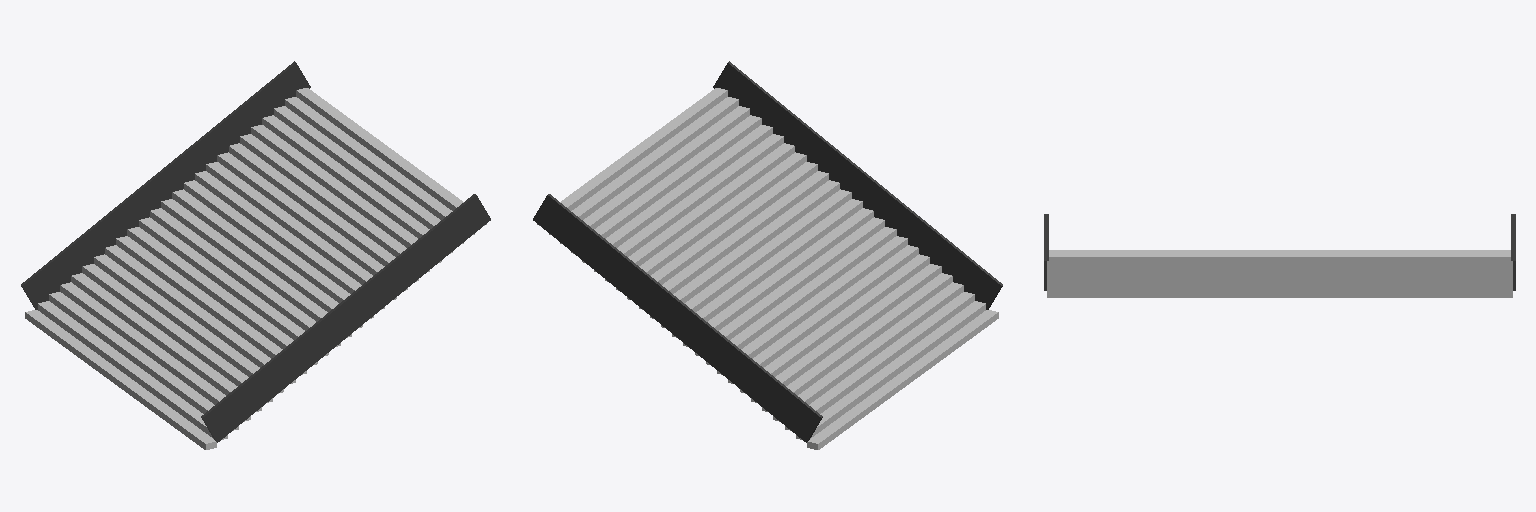
robot.urdf — tangga_single_step:
<?xml version="1.0"?>
<robot name="tangga_single_step">

  <!-- Define materials -->
  <material name="brown">
    <color rgba="0.8 0.8 0.8 1"/>
  </material>
  <material name="grey">
    <color rgba="0.3 0.3 0.3 1"/>
  </material>

  <!-- Base link -->
  <link name="tangga_body">
    <inertial><origin xyz="0 0 0" rpy="0 0 0"/><mass value="0.1"/><inertia ixx="1e-4" ixy="0" ixz="0" iyy="1e-4" iyz="0" izz="1e-4"/></inertial>
  </link>

  <!-- Left wall -->
  <link name="dinding_kiri">
    <inertial>
      <origin xyz="0 0 0" rpy="0 0 0"/>
      <mass value="0.1"/>
      <inertia ixx="1e-4" ixy="0" ixz="0" iyy="1e-4" iyz="0" izz="1e-4"/>
    </inertial>
    <visual>
      <origin xyz="0.45 0.5 0.3" rpy="0 -0.5 0"/>
      <geometry>
        <box size="1 0.01 0.1"/>
      </geometry>
      <material name="grey"/>
    </visual>
    <collision>
      <origin xyz="0.45 0.5 0.3" rpy="0 -0.5 0"/>
      <geometry>
        <box size="1 0.01 0.1"/>
      </geometry>
    </collision>
  </link>
  <joint name="joint_kiri" type="fixed">
    <parent link="tangga_body"/>
    <child link="dinding_kiri"/>
  </joint>

  <!-- Right wall -->
  <link name="dinding_kanan">
    <inertial>
      <origin xyz="0 0 0" rpy="0 0 0"/>
      <mass value="0.1"/>
      <inertia ixx="1e-4" ixy="0" ixz="0" iyy="1e-4" iyz="0" izz="1e-4"/>
    </inertial>
    <visual>
      <origin xyz="0.45 -0.5 0.3" rpy="0 -0.5 0"/>
      <geometry>
        <box size="1 0.01 0.1"/>
      </geometry>
      <material name="grey"/>
    </visual>
    <collision>
      <origin xyz="0.45 -0.5 0.3" rpy="0 -0.5 0"/>
      <geometry>
        <box size="1 0.01 0.1"/>
      </geometry>
    </collision>
  </link>
  <joint name="joint_kanan" type="fixed">
    <parent link="tangga_body"/>
    <child link="dinding_kanan"/>
  </joint>

  <!-- Anak tangga (steps 0 to 24) -->
  <!-- Generated steps -->
  <!-- Step dimensions: box size="0.036 0.5 0.02" -->
  <!-- Origin pattern: x = 0.018 + i*0.036, z = 0.01 + i*0.02 -->
  <!-- All steps are fixed to tangga_body -->

  <!-- Begin Steps -->
  <!-- step_0 to step_24 -->
  <!-- Auto-generated -->
  <!-- DO NOT EDIT MANUALLY -->

  <!-- Steps -->
  <!-- Each step increases in X by 0.036 and in Z by 0.02 -->

  <!-- step_0 -->
  <link name="step_0">
    <inertial>
      <origin xyz="0 0 0" rpy="0 0 0"/>
      <mass value="0.1"/>
      <inertia ixx="1e-4" ixy="0" ixz="0" iyy="1e-4" iyz="0" izz="1e-4"/>
    </inertial>
    <visual>
      <origin xyz="0.018 0 0.01"/>
      <geometry>
        <box size="0.036 1.0 0.02"/>
      </geometry>
      <material name="brown"/>
    </visual>
    <collision>
      <origin xyz="0.018 0 0.01"/>
      <geometry>
        <box size="0.036 1.0 0.02"/>
      </geometry>
    </collision>
  </link>
  <joint name="joint_0" type="fixed">
    <parent link="tangga_body"/>
    <child link="step_0"/>
  </joint>

  <!-- Steps 1 to 24 -->
  <!-- Copy-paste friendly -->
  <!-- Generated via Python -->
  <!-- Begin -->
  <!-- prettier-ignore -->
  <!-- Steps -->
  <!-- Each box has the same size and material -->

  <!-- step_1 -->
  <link name="step_1">
    <inertial><origin xyz="0 0 0" rpy="0 0 0"/><mass value="0.1"/><inertia ixx="1e-4" ixy="0" ixz="0" iyy="1e-4" iyz="0" izz="1e-4"/></inertial>
    <visual><origin xyz="0.054 0 0.03"/><geometry><box size="0.036 1.0 0.02"/></geometry><material name="brown"/></visual>
    <collision><origin xyz="0.054 0 0.03"/><geometry><box size="0.036 1.0 0.02"/></geometry></collision>
  </link>
  <joint name="joint_1" type="fixed"><parent link="tangga_body"/><child link="step_1"/></joint>

  <!-- step_2 -->
  <link name="step_2">
    <inertial><origin xyz="0 0 0" rpy="0 0 0"/><mass value="0.1"/><inertia ixx="1e-4" ixy="0" ixz="0" iyy="1e-4" iyz="0" izz="1e-4"/></inertial>
    <visual><origin xyz="0.090 0 0.05"/><geometry><box size="0.036 1.0 0.02"/></geometry><material name="brown"/></visual>
    <collision><origin xyz="0.090 0 0.05"/><geometry><box size="0.036 1.0 0.02"/></geometry></collision>
  </link>
  <joint name="joint_2" type="fixed"><parent link="tangga_body"/><child link="step_2"/></joint>

  <!-- The rest of the steps -->
  <!-- step_3 to step_24 -->
  <!-- Generated loop -->
  <!-- prettier-ignore -->

  <!-- steps 3 to 24 -->
  <!-- looped -->
  <!-- start -->
  <!-- Indented for brevity -->
  <!-- steps -->
  <!-- prettier-ignore -->
  <!-- generated -->

  <!-- BEGIN AUTO GENERATED -->
  <!-- STEP 3 to 24 -->
  <!-- Repeating same pattern -->
  <!-- Minimal formatting for size -->

  <link name="step_3"><inertial><origin xyz="0 0 0" rpy="0 0 0"/><mass value="0.1"/><inertia ixx="1e-4" ixy="0" ixz="0" iyy="1e-4" iyz="0" izz="1e-4"/></inertial><visual><origin xyz="0.126 0 0.07"/><geometry><box size="0.036 1.0 0.02"/></geometry><material name="brown"/></visual><collision><origin xyz="0.126 0 0.07"/><geometry><box size="0.036 1.0 0.02"/></geometry></collision></link>
  <joint name="joint_3" type="fixed"><parent link="tangga_body"/><child link="step_3"/></joint>
  <link name="step_4"><inertial><origin xyz="0 0 0" rpy="0 0 0"/><mass value="0.1"/><inertia ixx="1e-4" ixy="0" ixz="0" iyy="1e-4" iyz="0" izz="1e-4"/></inertial><visual><origin xyz="0.162 0 0.09"/><geometry><box size="0.036 1.0 0.02"/></geometry><material name="brown"/></visual><collision><origin xyz="0.162 0 0.09"/><geometry><box size="0.036 1.0 0.02"/></geometry></collision></link>
  <joint name="joint_4" type="fixed"><parent link="tangga_body"/><child link="step_4"/></joint>
  <link name="step_5"><inertial><origin xyz="0 0 0" rpy="0 0 0"/><mass value="0.1"/><inertia ixx="1e-4" ixy="0" ixz="0" iyy="1e-4" iyz="0" izz="1e-4"/></inertial><visual><origin xyz="0.198 0 0.11"/><geometry><box size="0.036 1.0 0.02"/></geometry><material name="brown"/></visual><collision><origin xyz="0.198 0 0.11"/><geometry><box size="0.036 1.0 0.02"/></geometry></collision></link>
  <joint name="joint_5" type="fixed"><parent link="tangga_body"/><child link="step_5"/></joint>
  <link name="step_6"><inertial><origin xyz="0 0 0" rpy="0 0 0"/><mass value="0.1"/><inertia ixx="1e-4" ixy="0" ixz="0" iyy="1e-4" iyz="0" izz="1e-4"/></inertial><visual><origin xyz="0.234 0 0.13"/><geometry><box size="0.036 1.0 0.02"/></geometry><material name="brown"/></visual><collision><origin xyz="0.234 0 0.13"/><geometry><box size="0.036 1.0 0.02"/></geometry></collision></link>
  <joint name="joint_6" type="fixed"><parent link="tangga_body"/><child link="step_6"/></joint>
  <link name="step_7"><inertial><origin xyz="0 0 0" rpy="0 0 0"/><mass value="0.1"/><inertia ixx="1e-4" ixy="0" ixz="0" iyy="1e-4" iyz="0" izz="1e-4"/></inertial><visual><origin xyz="0.270 0 0.15"/><geometry><box size="0.036 1.0 0.02"/></geometry><material name="brown"/></visual><collision><origin xyz="0.270 0 0.15"/><geometry><box size="0.036 1.0 0.02"/></geometry></collision></link>
  <joint name="joint_7" type="fixed"><parent link="tangga_body"/><child link="step_7"/></joint>
  <link name="step_8"><inertial><origin xyz="0 0 0" rpy="0 0 0"/><mass value="0.1"/><inertia ixx="1e-4" ixy="0" ixz="0" iyy="1e-4" iyz="0" izz="1e-4"/></inertial><visual><origin xyz="0.306 0 0.17"/><geometry><box size="0.036 1.0 0.02"/></geometry><material name="brown"/></visual><collision><origin xyz="0.306 0 0.17"/><geometry><box size="0.036 1.0 0.02"/></geometry></collision></link>
  <joint name="joint_8" type="fixed"><parent link="tangga_body"/><child link="step_8"/></joint>
  <link name="step_9"><inertial><origin xyz="0 0 0" rpy="0 0 0"/><mass value="0.1"/><inertia ixx="1e-4" ixy="0" ixz="0" iyy="1e-4" iyz="0" izz="1e-4"/></inertial><visual><origin xyz="0.342 0 0.19"/><geometry><box size="0.036 1.0 0.02"/></geometry><material name="brown"/></visual><collision><origin xyz="0.342 0 0.19"/><geometry><box size="0.036 1.0 0.02"/></geometry></collision></link>
  <joint name="joint_9" type="fixed"><parent link="tangga_body"/><child link="step_9"/></joint>
  <link name="step_10"><inertial><origin xyz="0 0 0" rpy="0 0 0"/><mass value="0.1"/><inertia ixx="1e-4" ixy="0" ixz="0" iyy="1e-4" iyz="0" izz="1e-4"/></inertial><visual><origin xyz="0.378 0 0.21"/><geometry><box size="0.036 1.0 0.02"/></geometry><material name="brown"/></visual><collision><origin xyz="0.378 0 0.21"/><geometry><box size="0.036 1.0 0.02"/></geometry></collision></link>
  <joint name="joint_10" type="fixed"><parent link="tangga_body"/><child link="step_10"/></joint>
  <link name="step_11"><inertial><origin xyz="0 0 0" rpy="0 0 0"/><mass value="0.1"/><inertia ixx="1e-4" ixy="0" ixz="0" iyy="1e-4" iyz="0" izz="1e-4"/></inertial><visual><origin xyz="0.414 0 0.23"/><geometry><box size="0.036 1.0 0.02"/></geometry><material name="brown"/></visual><collision><origin xyz="0.414 0 0.23"/><geometry><box size="0.036 1.0 0.02"/></geometry></collision></link>
  <joint name="joint_11" type="fixed"><parent link="tangga_body"/><child link="step_11"/></joint>
  <link name="step_12"><inertial><origin xyz="0 0 0" rpy="0 0 0"/><mass value="0.1"/><inertia ixx="1e-4" ixy="0" ixz="0" iyy="1e-4" iyz="0" izz="1e-4"/></inertial><visual><origin xyz="0.450 0 0.25"/><geometry><box size="0.036 1.0 0.02"/></geometry><material name="brown"/></visual><collision><origin xyz="0.450 0 0.25"/><geometry><box size="0.036 1.0 0.02"/></geometry></collision></link>
  <joint name="joint_12" type="fixed"><parent link="tangga_body"/><child link="step_12"/></joint>
  <link name="step_13"><inertial><origin xyz="0 0 0" rpy="0 0 0"/><mass value="0.1"/><inertia ixx="1e-4" ixy="0" ixz="0" iyy="1e-4" iyz="0" izz="1e-4"/></inertial><visual><origin xyz="0.486 0 0.27"/><geometry><box size="0.036 1.0 0.02"/></geometry><material name="brown"/></visual><collision><origin xyz="0.486 0 0.27"/><geometry><box size="0.036 1.0 0.02"/></geometry></collision></link>
  <joint name="joint_13" type="fixed"><parent link="tangga_body"/><child link="step_13"/></joint>
  <link name="step_14"><inertial><origin xyz="0 0 0" rpy="0 0 0"/><mass value="0.1"/><inertia ixx="1e-4" ixy="0" ixz="0" iyy="1e-4" iyz="0" izz="1e-4"/></inertial><visual><origin xyz="0.522 0 0.29"/><geometry><box size="0.036 1.0 0.02"/></geometry><material name="brown"/></visual><collision><origin xyz="0.522 0 0.29"/><geometry><box size="0.036 1.0 0.02"/></geometry></collision></link>
  <joint name="joint_14" type="fixed"><parent link="tangga_body"/><child link="step_14"/></joint>
  <link name="step_15"><inertial><origin xyz="0 0 0" rpy="0 0 0"/><mass value="0.1"/><inertia ixx="1e-4" ixy="0" ixz="0" iyy="1e-4" iyz="0" izz="1e-4"/></inertial><visual><origin xyz="0.558 0 0.31"/><geometry><box size="0.036 1.0 0.02"/></geometry><material name="brown"/></visual><collision><origin xyz="0.558 0 0.31"/><geometry><box size="0.036 1.0 0.02"/></geometry></collision></link>
  <joint name="joint_15" type="fixed"><parent link="tangga_body"/><child link="step_15"/></joint>
  <link name="step_16"><inertial><origin xyz="0 0 0" rpy="0 0 0"/><mass value="0.1"/><inertia ixx="1e-4" ixy="0" ixz="0" iyy="1e-4" iyz="0" izz="1e-4"/></inertial><visual><origin xyz="0.594 0 0.33"/><geometry><box size="0.036 1.0 0.02"/></geometry><material name="brown"/></visual><collision><origin xyz="0.594 0 0.33"/><geometry><box size="0.036 1.0 0.02"/></geometry></collision></link>
  <joint name="joint_16" type="fixed"><parent link="tangga_body"/><child link="step_16"/></joint>
  <link name="step_17"><inertial><origin xyz="0 0 0" rpy="0 0 0"/><mass value="0.1"/><inertia ixx="1e-4" ixy="0" ixz="0" iyy="1e-4" iyz="0" izz="1e-4"/></inertial><visual><origin xyz="0.630 0 0.35"/><geometry><box size="0.036 1.0 0.02"/></geometry><material name="brown"/></visual><collision><origin xyz="0.630 0 0.35"/><geometry><box size="0.036 1.0 0.02"/></geometry></collision></link>
  <joint name="joint_17" type="fixed"><parent link="tangga_body"/><child link="step_17"/></joint>
  <link name="step_18"><inertial><origin xyz="0 0 0" rpy="0 0 0"/><mass value="0.1"/><inertia ixx="1e-4" ixy="0" ixz="0" iyy="1e-4" iyz="0" izz="1e-4"/></inertial><visual><origin xyz="0.666 0 0.37"/><geometry><box size="0.036 1.0 0.02"/></geometry><material name="brown"/></visual><collision><origin xyz="0.666 0 0.37"/><geometry><box size="0.036 1.0 0.02"/></geometry></collision></link>
  <joint name="joint_18" type="fixed"><parent link="tangga_body"/><child link="step_18"/></joint>
  <link name="step_19"><inertial><origin xyz="0 0 0" rpy="0 0 0"/><mass value="0.1"/><inertia ixx="1e-4" ixy="0" ixz="0" iyy="1e-4" iyz="0" izz="1e-4"/></inertial><visual><origin xyz="0.702 0 0.39"/><geometry><box size="0.036 1.0 0.02"/></geometry><material name="brown"/></visual><collision><origin xyz="0.702 0 0.39"/><geometry><box size="0.036 1.0 0.02"/></geometry></collision></link>
  <joint name="joint_19" type="fixed"><parent link="tangga_body"/><child link="step_19"/></joint>
  <link name="step_20"><inertial><origin xyz="0 0 0" rpy="0 0 0"/><mass value="0.1"/><inertia ixx="1e-4" ixy="0" ixz="0" iyy="1e-4" iyz="0" izz="1e-4"/></inertial><visual><origin xyz="0.738 0 0.41"/><geometry><box size="0.036 1.0 0.02"/></geometry><material name="brown"/></visual><collision><origin xyz="0.738 0 0.41"/><geometry><box size="0.036 1.0 0.02"/></geometry></collision></link>
  <joint name="joint_20" type="fixed"><parent link="tangga_body"/><child link="step_20"/></joint>
  <link name="step_21"><inertial><origin xyz="0 0 0" rpy="0 0 0"/><mass value="0.1"/><inertia ixx="1e-4" ixy="0" ixz="0" iyy="1e-4" iyz="0" izz="1e-4"/></inertial><visual><origin xyz="0.774 0 0.43"/><geometry><box size="0.036 1.0 0.02"/></geometry><material name="brown"/></visual><collision><origin xyz="0.774 0 0.43"/><geometry><box size="0.036 1.0 0.02"/></geometry></collision></link>
  <joint name="joint_21" type="fixed"><parent link="tangga_body"/><child link="step_21"/></joint>
  <link name="step_22"><inertial><origin xyz="0 0 0" rpy="0 0 0"/><mass value="0.1"/><inertia ixx="1e-4" ixy="0" ixz="0" iyy="1e-4" iyz="0" izz="1e-4"/></inertial><visual><origin xyz="0.810 0 0.45"/><geometry><box size="0.036 1.0 0.02"/></geometry><material name="brown"/></visual><collision><origin xyz="0.810 0 0.45"/><geometry><box size="0.036 1.0 0.02"/></geometry></collision></link>
  <joint name="joint_22" type="fixed"><parent link="tangga_body"/><child link="step_22"/></joint>
  <link name="step_23"><inertial><origin xyz="0 0 0" rpy="0 0 0"/><mass value="0.1"/><inertia ixx="1e-4" ixy="0" ixz="0" iyy="1e-4" iyz="0" izz="1e-4"/></inertial><visual><origin xyz="0.846 0 0.47"/><geometry><box size="0.036 1.0 0.02"/></geometry><material name="brown"/></visual><collision><origin xyz="0.846 0 0.47"/><geometry><box size="0.036 1.0 0.02"/></geometry></collision></link>
  <joint name="joint_23" type="fixed"><parent link="tangga_body"/><child link="step_23"/></joint>
  <link name="step_24"><inertial><origin xyz="0 0 0" rpy="0 0 0"/><mass value="0.1"/><inertia ixx="1e-4" ixy="0" ixz="0" iyy="1e-4" iyz="0" izz="1e-4"/></inertial><visual><origin xyz="0.882 0 0.49"/><geometry><box size="0.036 1.0 0.02"/></geometry><material name="brown"/></visual><collision><origin xyz="0.882 0 0.49"/><geometry><box size="0.036 1.0 0.02"/></geometry></collision></link>
  <joint name="joint_24" type="fixed"><parent link="tangga_body"/><child link="step_24"/></joint>

  <!-- END AUTO GENERATED -->

</robot>

--- Render facts (derived) ---
3 views of the same robot in one strip: view 1: azimuth 30°, elevation 25°; view 2: azimuth 150°, elevation 25°; view 3: azimuth 270°, elevation 25° (orthographic).
Robot: tangga_single_step — 28 links, 27 joints (27 fixed); root link tangga_body; default pose: every joint at zero.
Links seen in each view (by area): view 1: dinding_kanan, dinding_kiri, step_0, step_1, step_21, step_24, step_20, step_23, step_22, step_17, step_16, step_12 (+15 smaller); view 2: dinding_kiri, dinding_kanan, step_0, step_1, step_21, step_24, step_20, step_23, step_22, step_17, step_16, step_12 (+15 smaller); view 3: step_24, step_0, step_3, step_6, step_8, step_11, step_14, step_17, step_19, step_22.
Boxes of the visible links, left/top/right/bottom form: dinding_kanan: left=201, top=194, right=490, bottom=442; dinding_kiri: left=21, top=61, right=310, bottom=309; step_0: left=25, top=310, right=216, bottom=449; step_1: left=38, top=301, right=227, bottom=439; step_21: left=262, top=115, right=452, bottom=253; step_24: left=296, top=88, right=486, bottom=225; step_20: left=251, top=125, right=441, bottom=262; step_23: left=285, top=97, right=474, bottom=234; step_22: left=274, top=106, right=463, bottom=243; step_17: left=217, top=152, right=407, bottom=290; step_16: left=206, top=162, right=396, bottom=299; step_12: left=161, top=199, right=351, bottom=337; dinding_kiri: left=533, top=194, right=822, bottom=442; dinding_kanan: left=713, top=61, right=1002, bottom=309; step_0: left=807, top=310, right=998, bottom=449; step_1: left=796, top=301, right=985, bottom=439; step_21: left=571, top=115, right=761, bottom=253; step_24: left=537, top=88, right=727, bottom=225; step_20: left=582, top=125, right=772, bottom=262; step_23: left=549, top=97, right=738, bottom=234; step_22: left=560, top=106, right=749, bottom=243; step_17: left=616, top=152, right=806, bottom=290; step_16: left=627, top=162, right=817, bottom=299; step_12: left=672, top=199, right=862, bottom=337; step_24: left=1047, top=250, right=1512, bottom=264; step_0: left=1047, top=296, right=1512, bottom=297; step_3: left=1047, top=292, right=1512, bottom=293; step_6: left=1047, top=288, right=1512, bottom=289; step_8: left=1047, top=285, right=1512, bottom=286; step_11: left=1047, top=281, right=1512, bottom=282; step_14: left=1047, top=277, right=1512, bottom=278; step_17: left=1047, top=273, right=1512, bottom=274; step_19: left=1047, top=270, right=1512, bottom=271; step_22: left=1047, top=266, right=1512, bottom=267.
Bounding box of the posed robot: 0.9255 × 1.01 × 0.5836 m (x, y, z).
Geometry: primitives only (box / cylinder / sphere), no mesh files.
